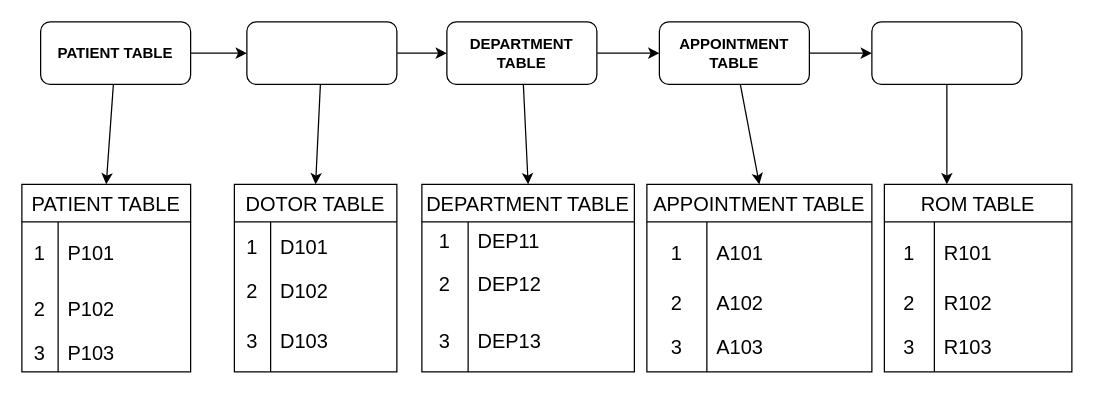
Image size: 1094x394. Some labels were removed from this diagram. Here are the shapes that lost their labels. From the top down, the centre of each, then its label:
At (321,52): "DOCTOR TABLE".
At (946,52): "ROOM TABLE".
